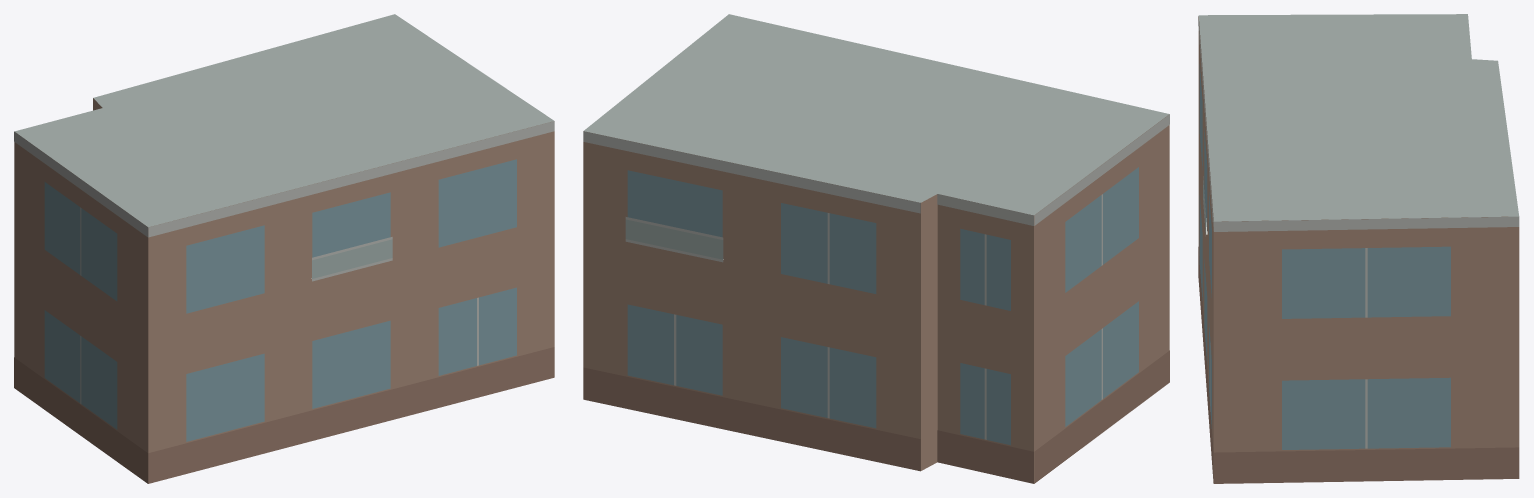
The model's file is survey-upis-32804170.glb.
3 renders of one model, left to right at view 1: azimuth 30°, elevation 25°; view 2: azimuth 150°, elevation 25°; view 3: azimuth 270°, elevation 25°, orthographic. The views are drawn at different scales.
Visible parts, largest first — view 1: survey-upis-32804170.tmp; view 2: survey-upis-32804170.tmp; view 3: survey-upis-32804170.tmp.
Part boxes in pixels (x1,y1,x2,y2): survey-upis-32804170.tmp: (14,14,554,483); survey-upis-32804170.tmp: (583,14,1169,483); survey-upis-32804170.tmp: (1198,14,1519,483).
Size of the model in its own units: 10.36 by 6.1 by 6.77.
